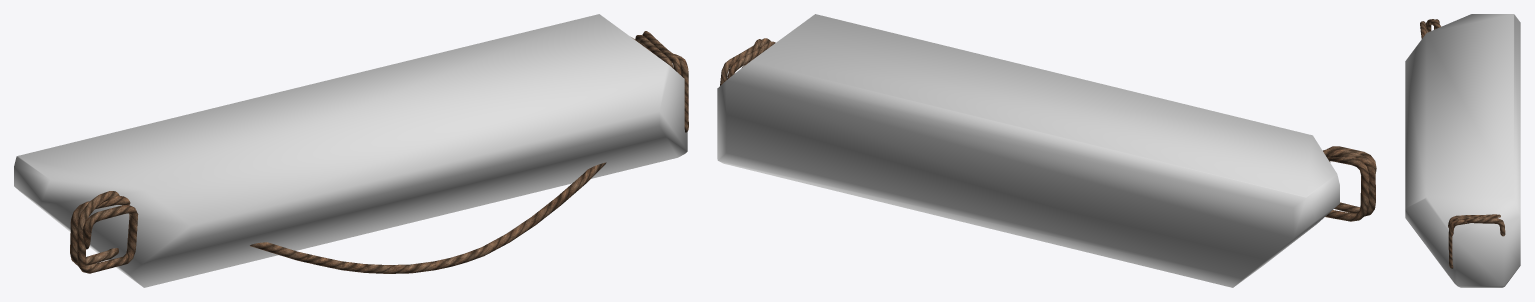
The model's file is SM_Rope_A.fbx.
3 views of the same model, side by side, from view 1: azimuth 30°, elevation 25°; view 2: azimuth 150°, elevation 25°; view 3: azimuth 270°, elevation 25° (orthographic). The views are drawn at different scales.
Parts seen in each view (by area): view 1: SM_Rope_A_ConvexHulls, SM_Rope_A; view 2: SM_Rope_A_ConvexHulls, SM_Rope_A; view 3: SM_Rope_A_ConvexHulls, SM_Rope_A.
Boxes of the visible parts, x1,y1,x2,y2 form: SM_Rope_A_ConvexHulls: (14, 14, 687, 287); SM_Rope_A: (70, 31, 688, 273); SM_Rope_A_ConvexHulls: (717, 14, 1339, 287); SM_Rope_A: (720, 38, 1376, 221); SM_Rope_A_ConvexHulls: (1405, 14, 1520, 287); SM_Rope_A: (1420, 19, 1505, 268).
Bounding box in the file's own units: 3.64 × 0.8943 × 0.8949.
